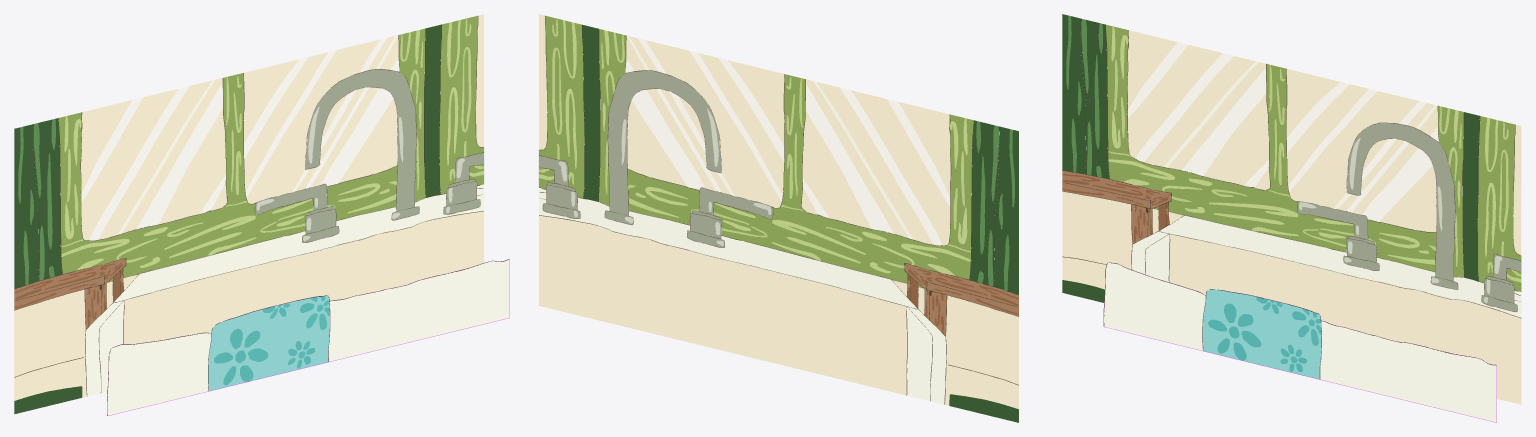
The model's file is Sink.glb.
The picture shows the model from 3 angles, left to right: view 1: azimuth 30°, elevation 25°; view 2: azimuth 150°, elevation 25°; view 3: azimuth 330°, elevation 25°; orthographic projection. The views are drawn at different scales.
Visible parts, largest first — view 1: n.105, n.595, n, n.110, n.488, n.633, n.596, n.001, n.193, n.003, n.002, n.186 (+34 smaller); view 2: n.105, n, n.110, n.488, n.001, n.193, n.003, n.002, n.186, n.004, n.139, n.006 (+32 smaller); view 3: n.105, n.595, n, n.110, n.633, n.596, n.488, n.001, n.193, n.003, n.002, n.004 (+34 smaller).
Part boxes in pixels (<box>): n.105: <box>124,211,483,344</box>; n.595: <box>328,259,509,361</box>; n: <box>61,73,312,277</box>; n.110: <box>114,184,484,302</box>; n.488: <box>14,289,86,400</box>; n.633: <box>107,333,211,415</box>; n.596: <box>208,295,329,390</box>; n.001: <box>246,39,379,203</box>; n.193: <box>305,69,416,210</box>; n.003: <box>439,16,483,194</box>; n.002: <box>81,89,177,240</box>; n.186: <box>159,108,225,224</box>; n.105: <box>539,215,906,395</box>; n: <box>713,74,970,283</box>; n.110: <box>538,188,917,308</box>; n.488: <box>945,295,1018,409</box>; n.001: <box>645,40,781,207</box>; n.193: <box>608,70,721,215</box>; n.003: <box>539,16,584,197</box>; n.002: <box>851,90,950,245</box>; n.186: <box>802,110,871,228</box>; n.004: <box>994,126,1018,294</box>; n.139: <box>906,307,945,404</box>; n.006: <box>969,120,998,285</box>; n.105: <box>1169,234,1521,404</box>; n.595: <box>1320,321,1496,422</box>; n: <box>1108,64,1354,252</box>; n.110: <box>1160,215,1521,404</box>; n.633: <box>1104,262,1205,350</box>; n.596: <box>1203,289,1321,379</box>; n.488: <box>1062,191,1132,289</box>; n.001: <box>1289,91,1419,208</box>; n.193: <box>1347,123,1455,280</box>; n.003: <box>1477,116,1521,282</box>; n.002: <box>1128,45,1222,158</box>; n.004: <box>1062,14,1086,174</box>.
Bounding box in the file's own units: 3.61 × 2.1 × 0.3348.
